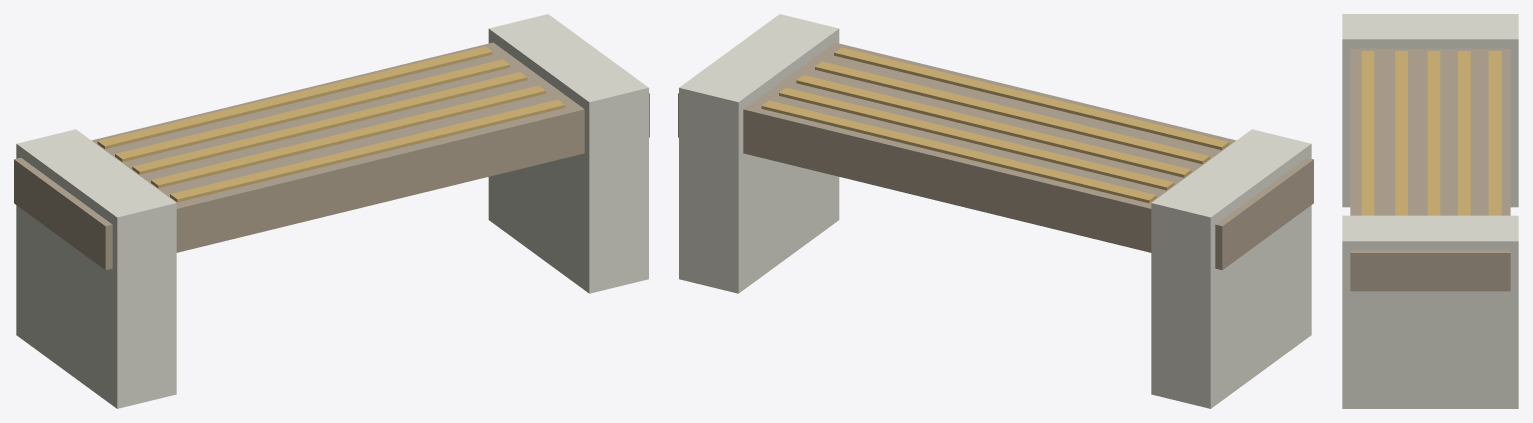
Rendered from props23.fbx.
3 views of the same model, side by side, from view 1: azimuth 30°, elevation 25°; view 2: azimuth 150°, elevation 25°; view 3: azimuth 270°, elevation 25° (orthographic). The views are drawn at different scales.
Parts seen in each view (by area): view 1: Cube_3; view 2: Cube_3; view 3: Cube_3.
Boxes of the visible parts, box(x1,y1,x2,y2) form: Cube_3: box(14, 14, 649, 408); Cube_3: box(678, 14, 1313, 408); Cube_3: box(1342, 14, 1518, 408).
Bounding box in the file's own units: 200 × 67.22 × 64.11.
